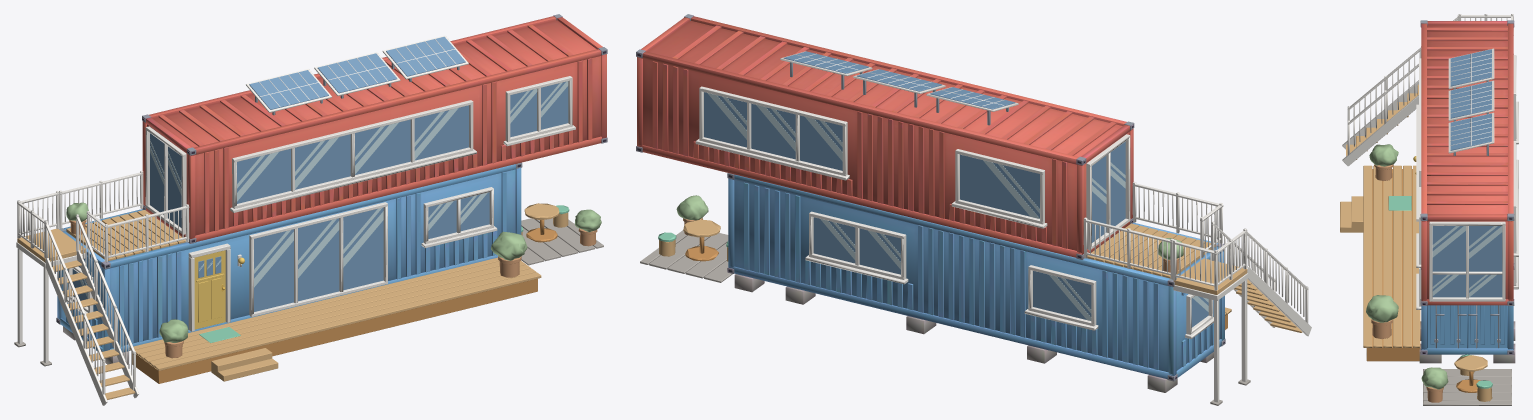
File: bldg_chu.glb
3 views of the same model, side by side, from view 1: azimuth 30°, elevation 25°; view 2: azimuth 150°, elevation 25°; view 3: azimuth 270°, elevation 25° (orthographic). The views are drawn at different scales.
Parts seen in each view (by area): view 1: container-home_details, container-home_body, container-home_door_l, container-home_plants; view 2: container-home_body, container-home_details, container-home_door_l, container-home_plants; view 3: container-home_details, container-home_body, container-home_plants, container-home_door_l.
Boxes of the visible parts, x1,y1,x2,y2 form: container-home_details: (14, 35, 603, 405); container-home_body: (56, 14, 607, 364); container-home_door_l: (76, 81, 568, 329); container-home_plants: (66, 202, 601, 342); container-home_body: (636, 14, 1225, 392); container-home_details: (640, 51, 1311, 405); container-home_door_l: (707, 93, 1208, 320); container-home_plants: (676, 195, 1183, 259); container-home_details: (1340, 14, 1518, 405); container-home_body: (1419, 20, 1515, 363); container-home_plants: (1366, 144, 1448, 389); container-home_door_l: (1415, 172, 1502, 297).
Bounding box in the file's own units: 15.99 × 6.01 × 4.7.
17 materials, 1 textured.
